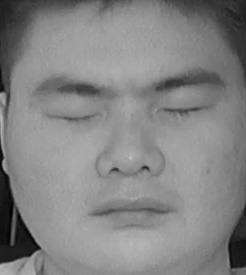blink: (51, 98, 104, 133), (160, 93, 211, 126)
mouth: (89, 187, 176, 233)
